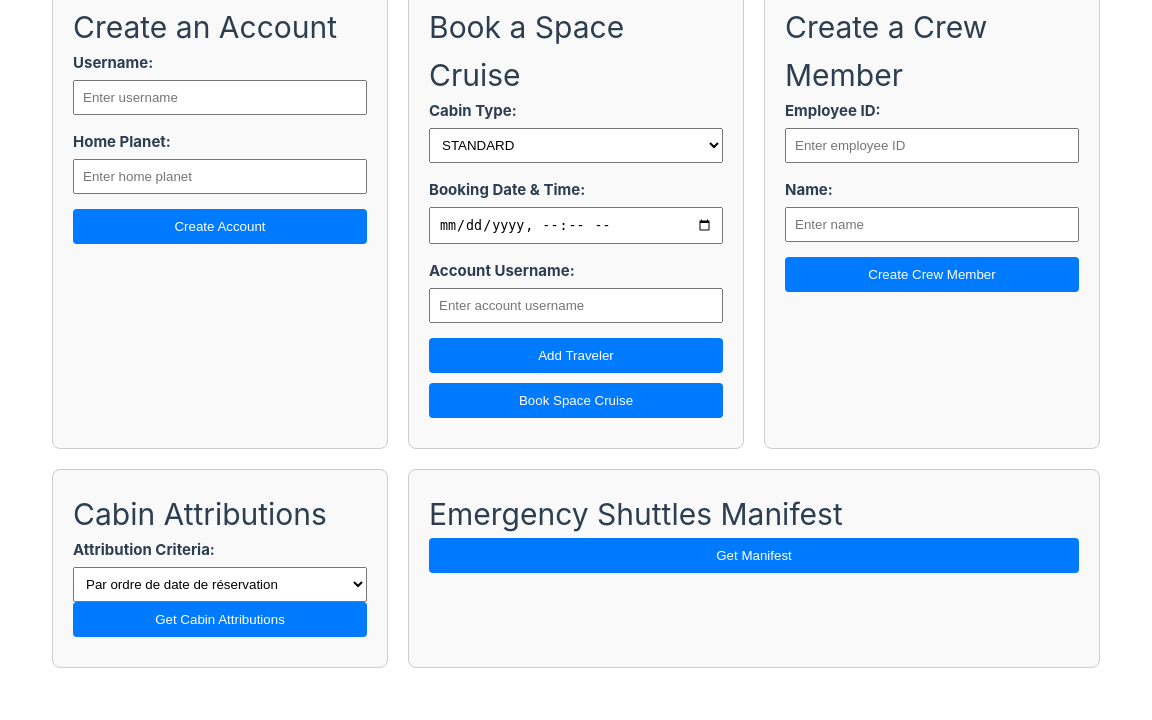
Scenario: Emergency Shuttles Manifest › affiche la liste des navettes et le coût total quand le manifeste est non vide
(page scrolled)
Click the button with test id "fetch-emergency-shuttles-manifest" at (754, 556), box x1=429 y1=538 x2=1079 y2=573
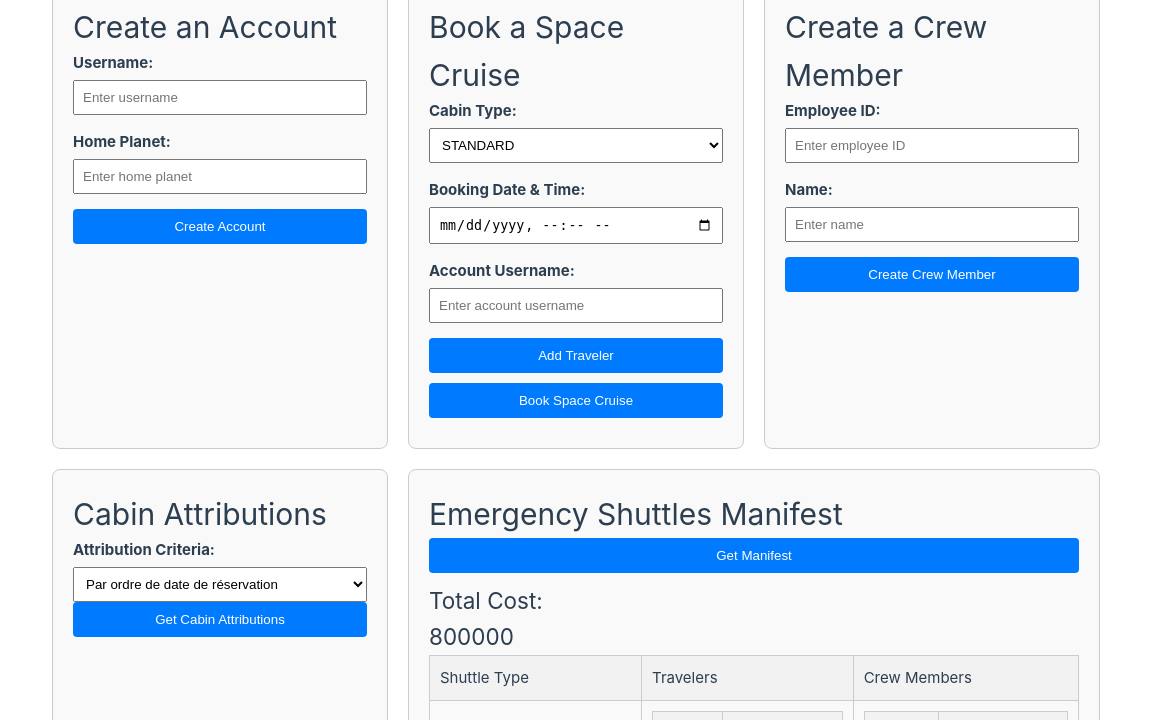
Expected: the number of rows with test id "emergency-shuttle" is 1, x1=430 y1=700 x2=1079 y2=719
Expected: the heading with test id "total-cost" reads "800000", x1=429 y1=623 x2=514 y2=650
